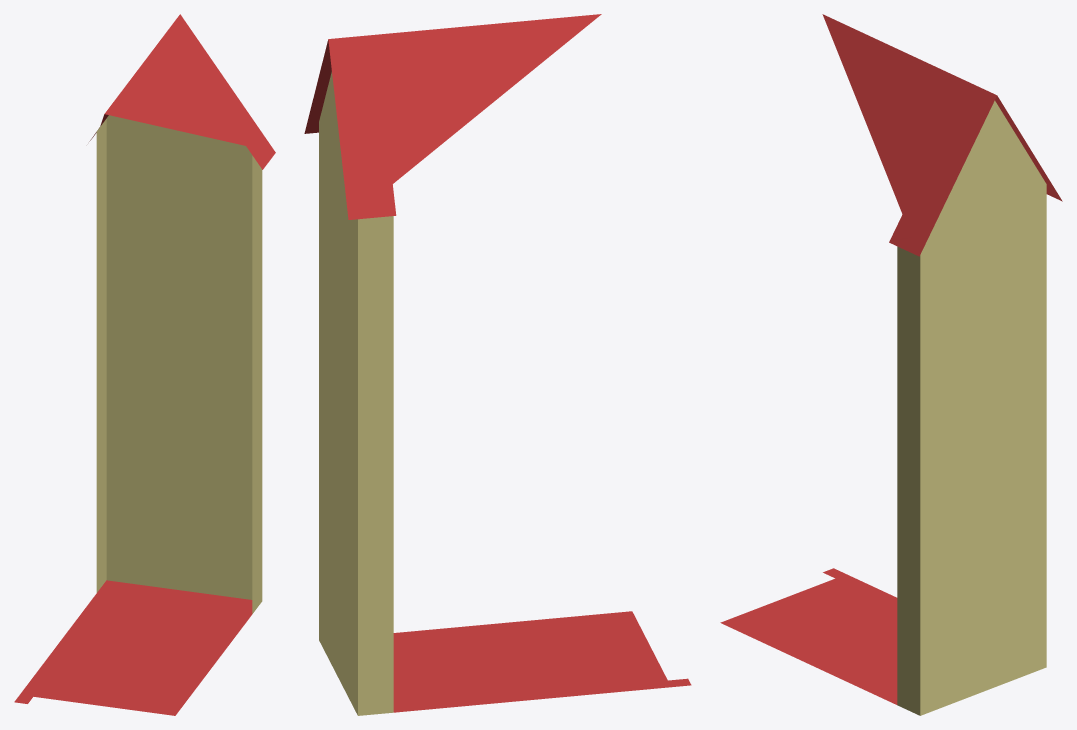
3 renders of one model, left to right at view 1: azimuth 30°, elevation 25°; view 2: azimuth 150°, elevation 25°; view 3: azimuth 270°, elevation 25°, orthographic. The views are drawn at different scales.
Visible parts, largest first — view 1: group_5, group_6, group_3; view 2: group_5, group_3, group_6; view 3: group_5, group_3, group_6.
Part boxes in pixels (box(x1,y1,x2,y2)): group_5: box(96, 115, 262, 613); group_6: box(14, 580, 252, 715); group_3: box(90, 14, 275, 169); group_5: box(319, 71, 393, 715); group_3: box(304, 14, 601, 219); group_6: box(393, 611, 691, 712); group_5: box(897, 100, 1046, 715); group_3: box(822, 14, 1062, 256); group_6: box(720, 568, 897, 704).
Size of the model in its own units: 8.05 by 7.55 by 14.52.
